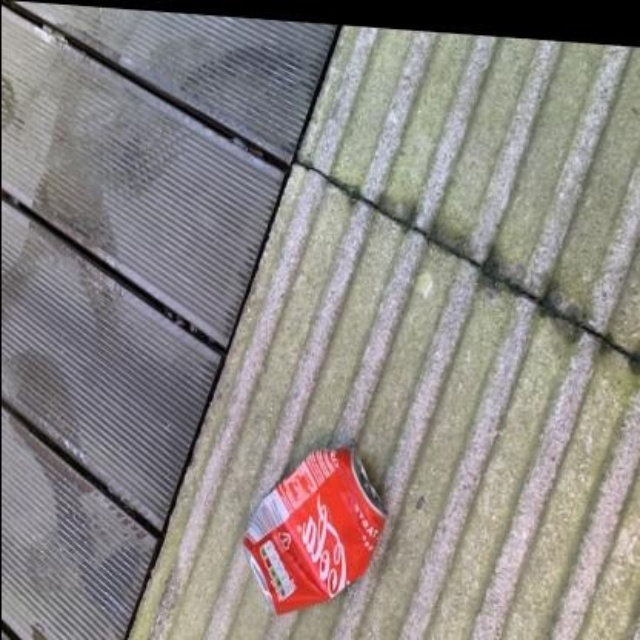trash: (245, 445, 383, 612)
